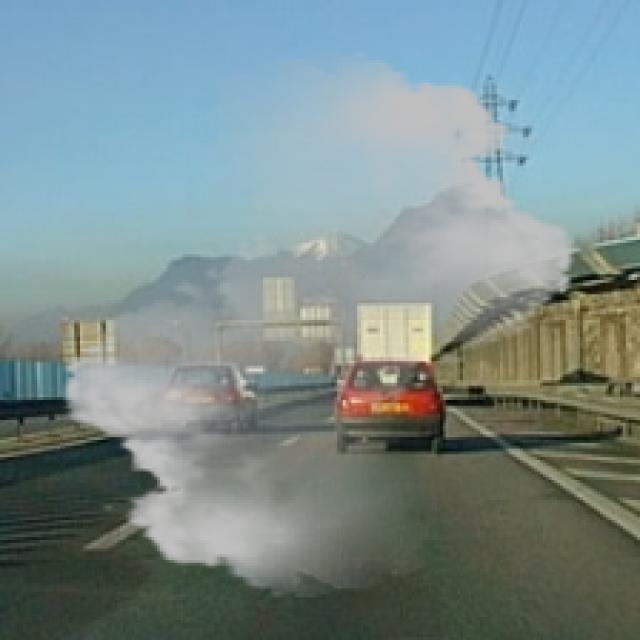smoke: (46, 52, 591, 597)
